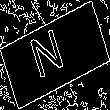N_S: (34, 24, 76, 86)
